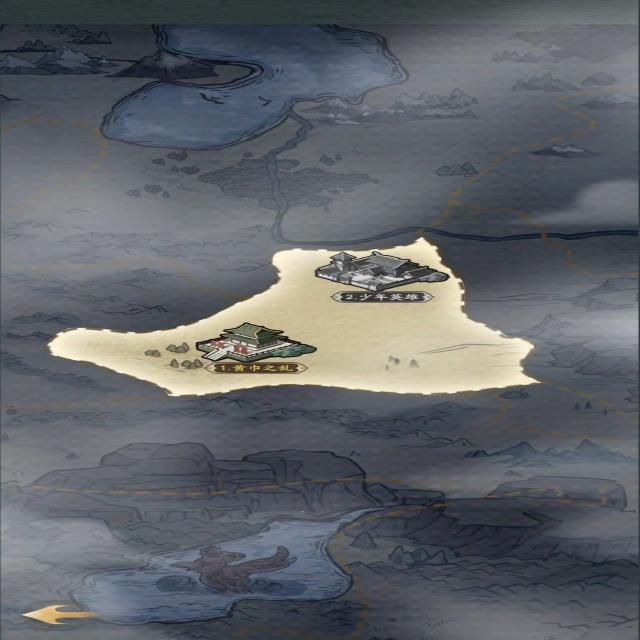operation-back: (14, 596, 110, 630)
